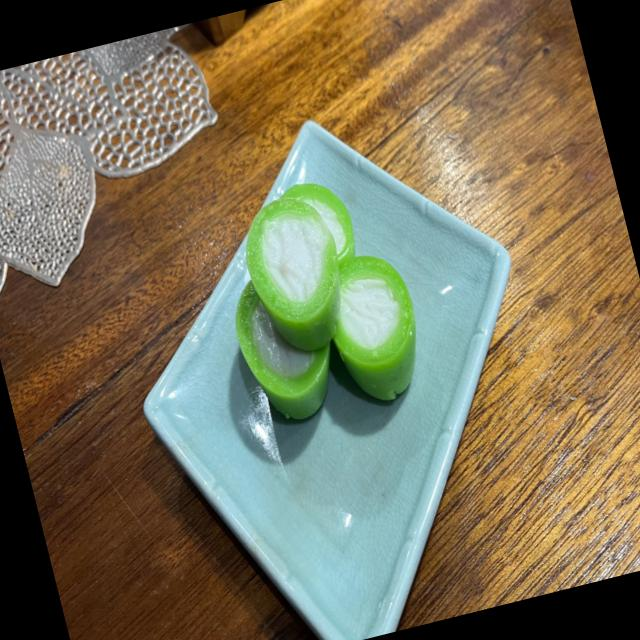nona-manis: (245, 195, 340, 351), (235, 280, 330, 419), (334, 255, 416, 400), (284, 182, 355, 265)
